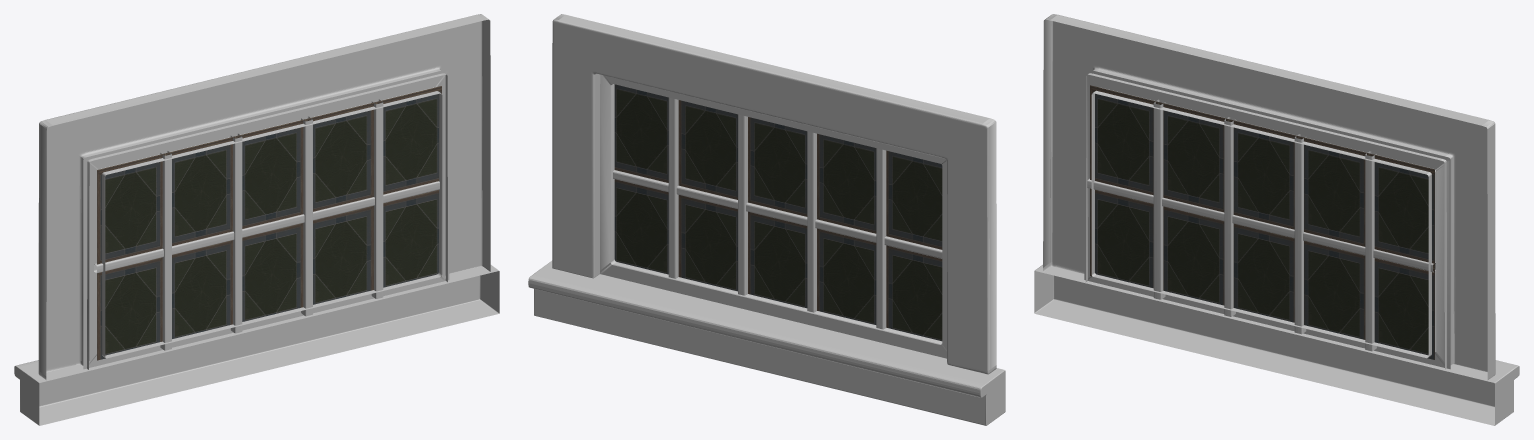
The model's file is finestra.fbx.
3 renders of one model, left to right at view 1: azimuth 30°, elevation 25°; view 2: azimuth 150°, elevation 25°; view 3: azimuth 330°, elevation 25°, orthographic.
Visible parts, largest first — view 1: Plane032; view 2: Plane032; view 3: Plane032.
Boxes of the visible parts, left/top/right/bottom form: Plane032: left=14, top=14, right=499, bottom=425; Plane032: left=528, top=14, right=1005, bottom=425; Plane032: left=1034, top=14, right=1519, bottom=425.
Size of the model in its own units: 200 by 123 by 22.18.
